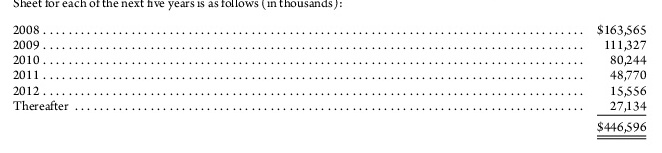table: (0, 0, 662, 153)
